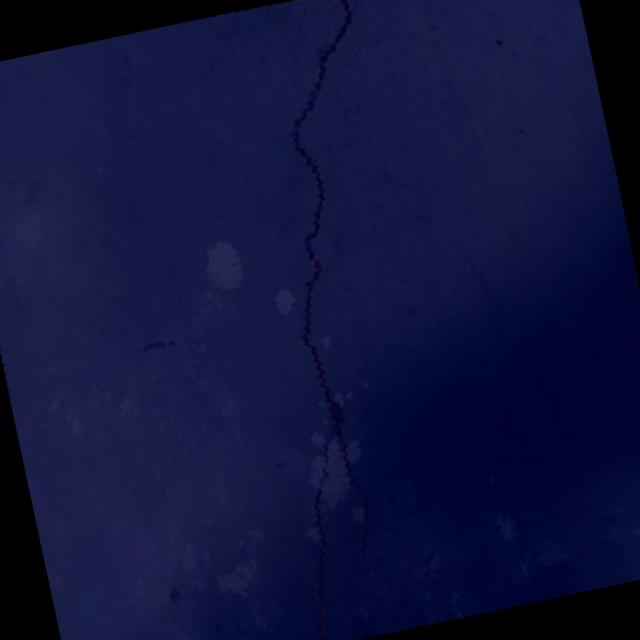crack: (184, 0, 483, 640)
